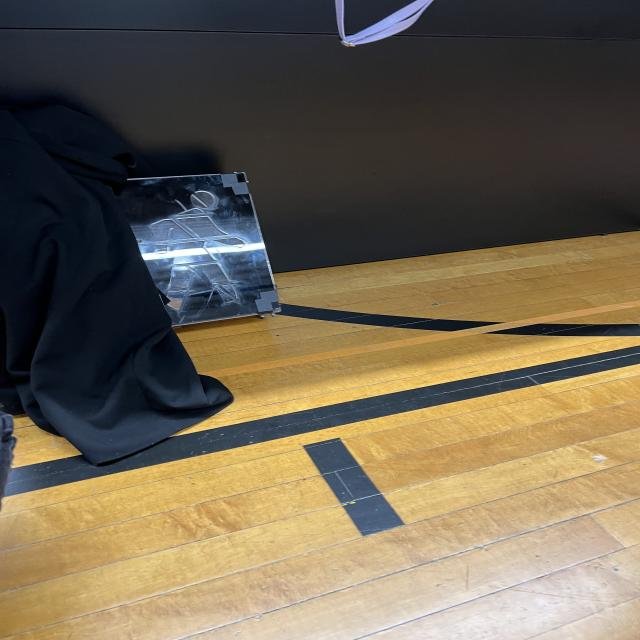go: (119, 177, 290, 324)
